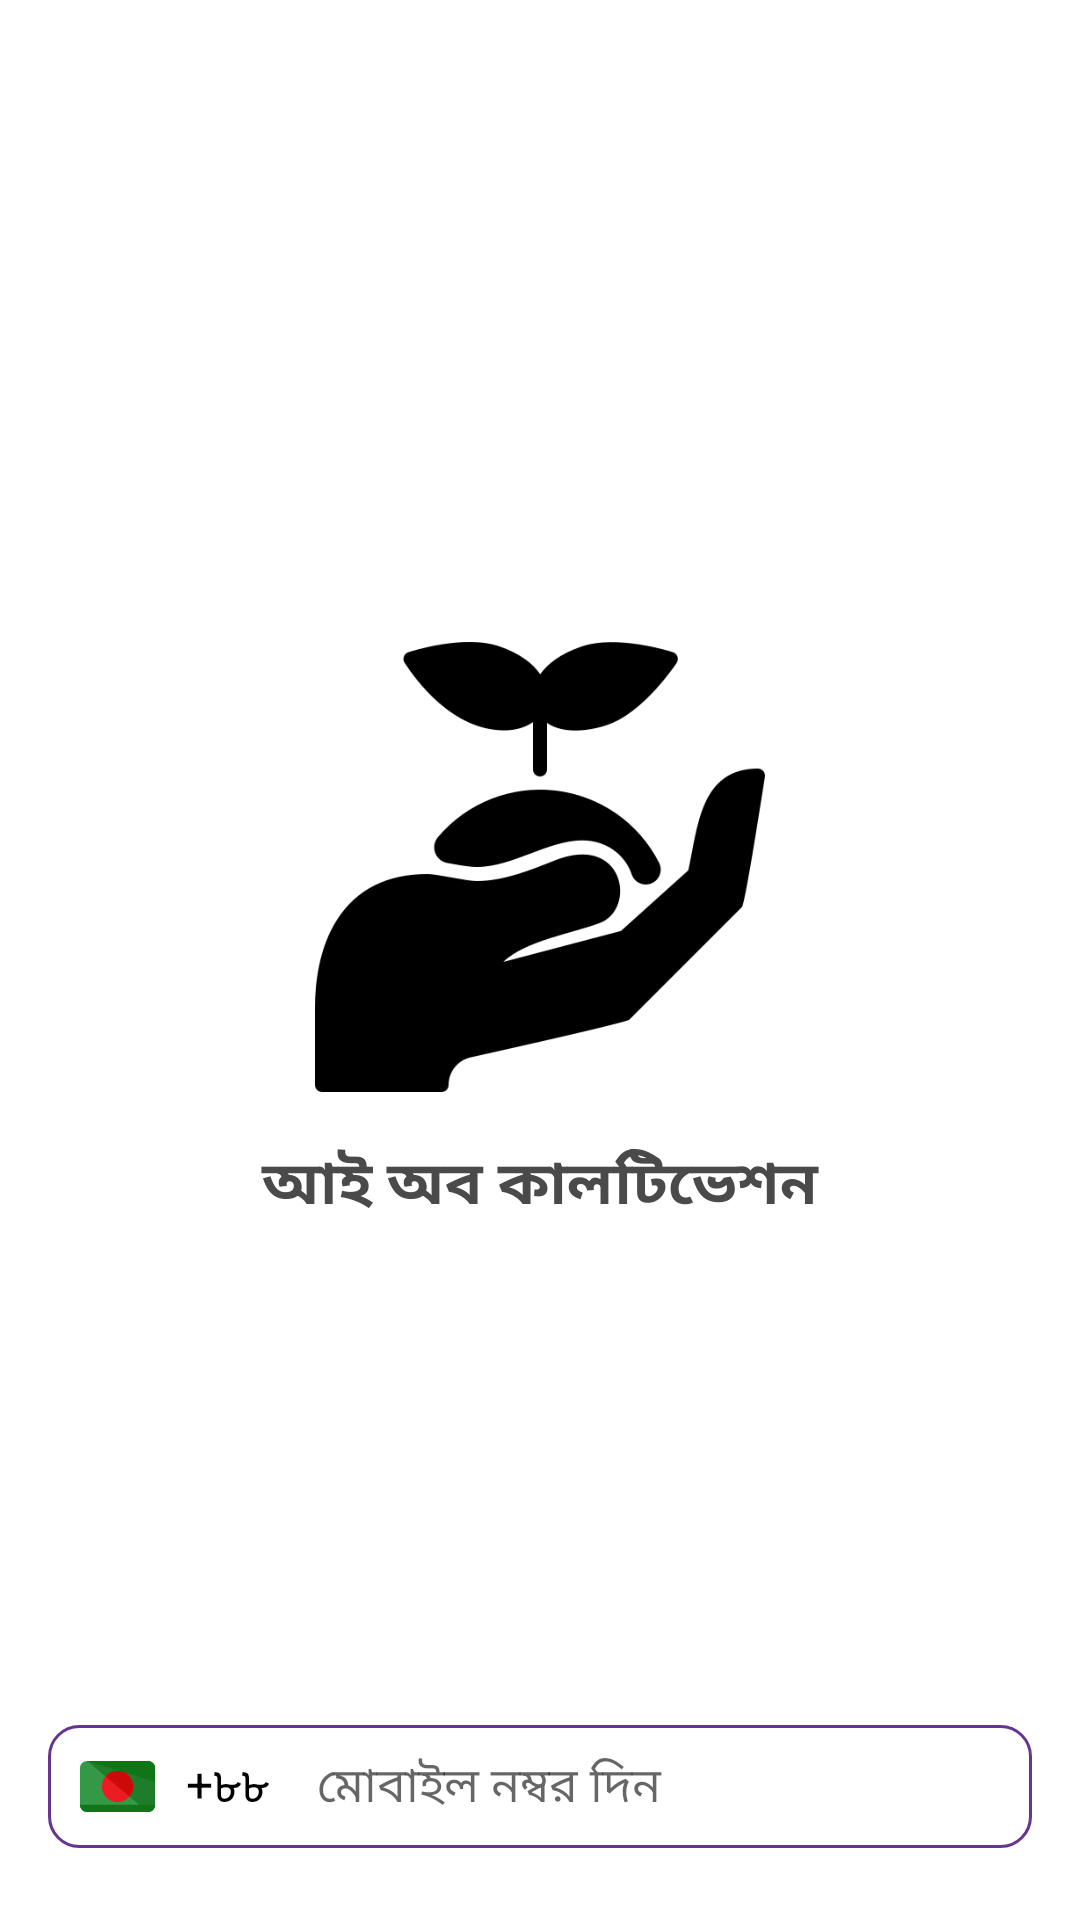

Named icons in this screenshot (1080*1920) and their bounding boxes, [left=x1, top=y1, right=x2, bottom=y2]:
bangladesh: [left=80, top=1761, right=155, bottom=1812]
